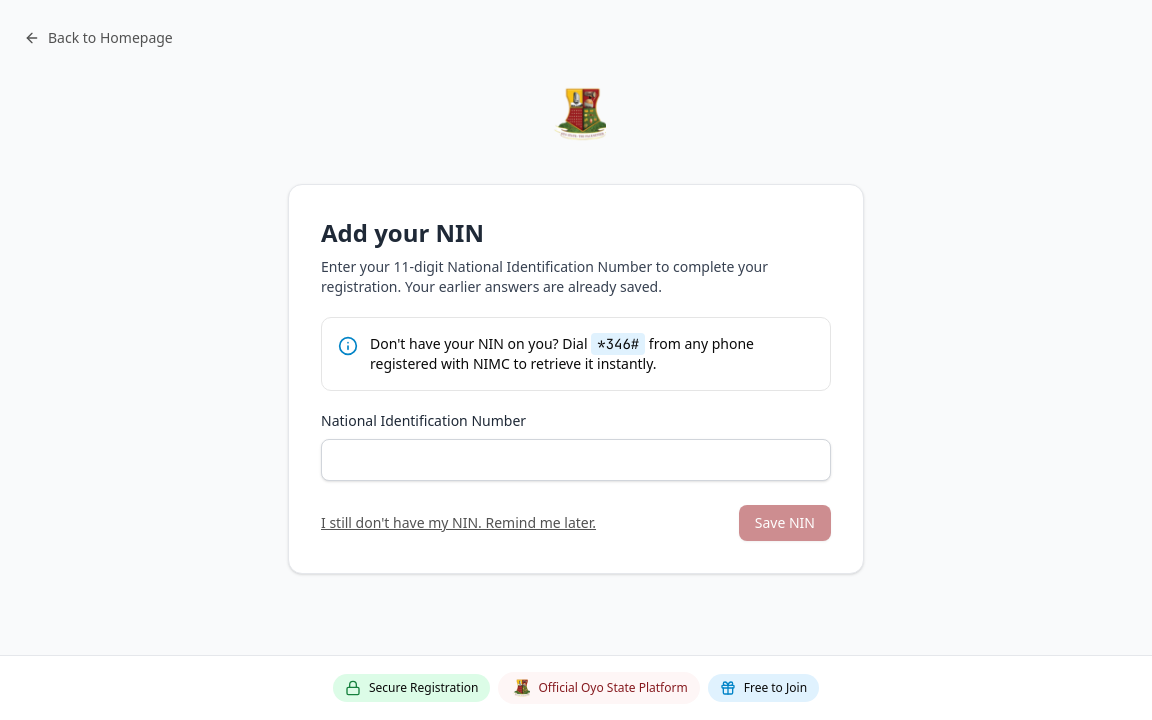
CompleteNinPage (Story 9-12 Task 7) › surfaces the API error when deferReminder fails
The image size is (1152, 720).
Click the button with test id "complete-nin-defer" at (458, 523), box x1=321 y1=513 x2=596 y2=533
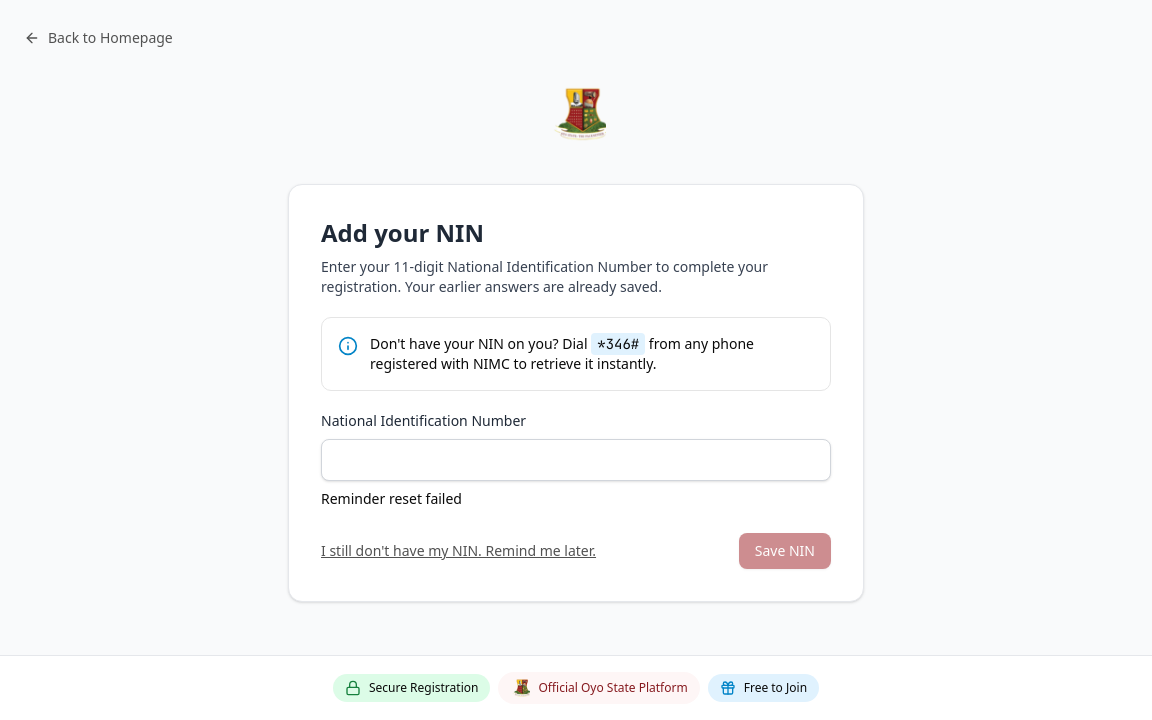
Now the message with test id "complete-nin-error" reads "Reminder reset failed", box x1=321 y1=489 x2=462 y2=508
